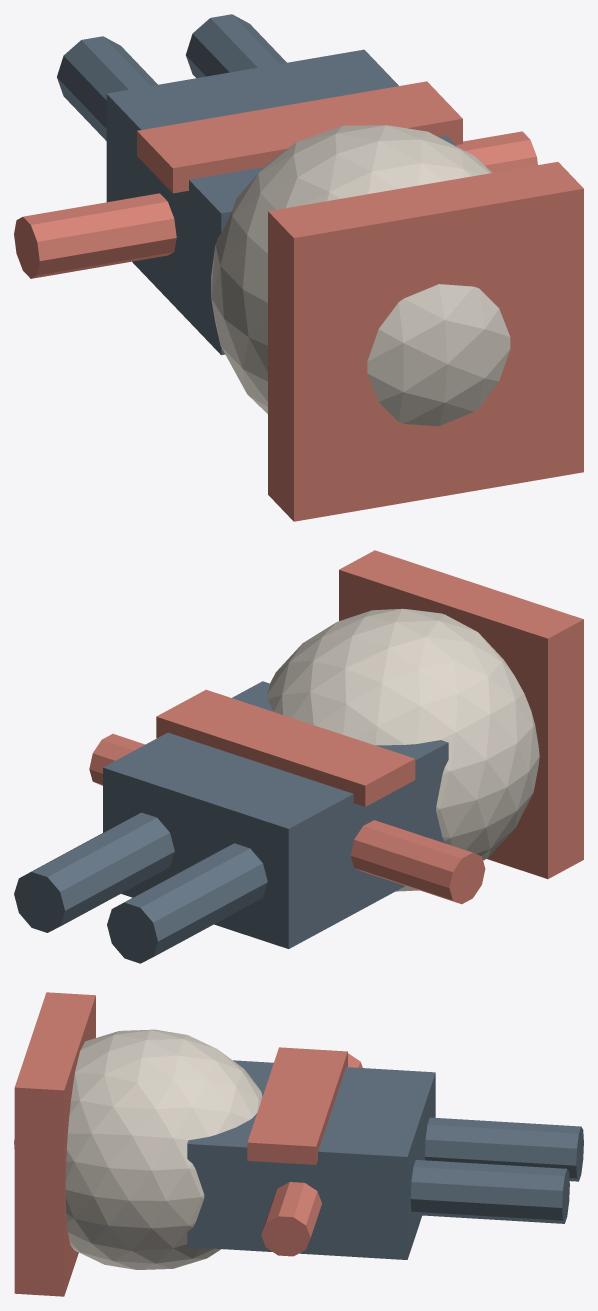
File: npc-craig.glb
3 renders of one model, top to bottom at view 1: azimuth 30°, elevation 25°; view 2: azimuth 150°, elevation 25°; view 3: azimuth 270°, elevation 25°, orthographic. The views are drawn at different scales.
Parts seen in each view (by area): view 1: world; view 2: world; view 3: world.
Part boxes in pixels (x1,y1,x2,y2): world: (14, 14, 583, 521); world: (14, 550, 583, 963); world: (14, 992, 583, 1296).
Size of the model in its own units: 1.56 by 0.96 by 2.25.
